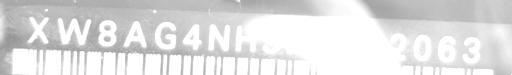letter: (55, 13, 93, 48), (24, 13, 54, 44), (120, 19, 150, 50), (205, 23, 233, 54), (233, 24, 259, 55), (310, 28, 336, 59), (458, 32, 482, 65), (94, 18, 118, 49), (154, 19, 178, 50), (180, 21, 204, 52), (260, 24, 284, 55), (284, 27, 308, 58), (361, 30, 385, 59), (410, 33, 434, 62), (386, 32, 408, 61), (436, 33, 456, 64), (340, 29, 358, 60)
